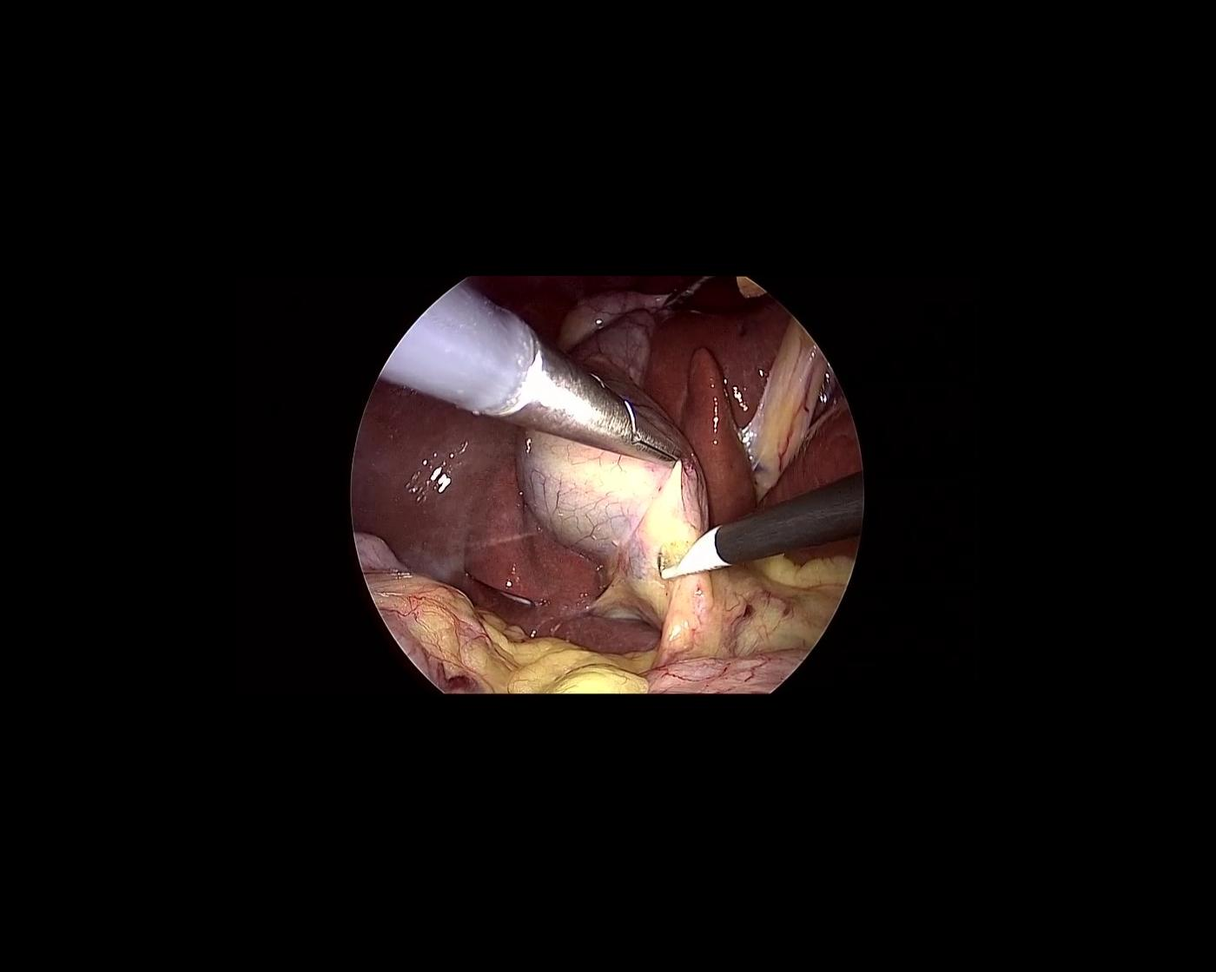Cautery: (647, 470, 876, 584)
Forceps: (375, 274, 691, 554)
Gallbladder: (482, 280, 726, 606)
Liver: (311, 363, 710, 684), (616, 237, 871, 526)
